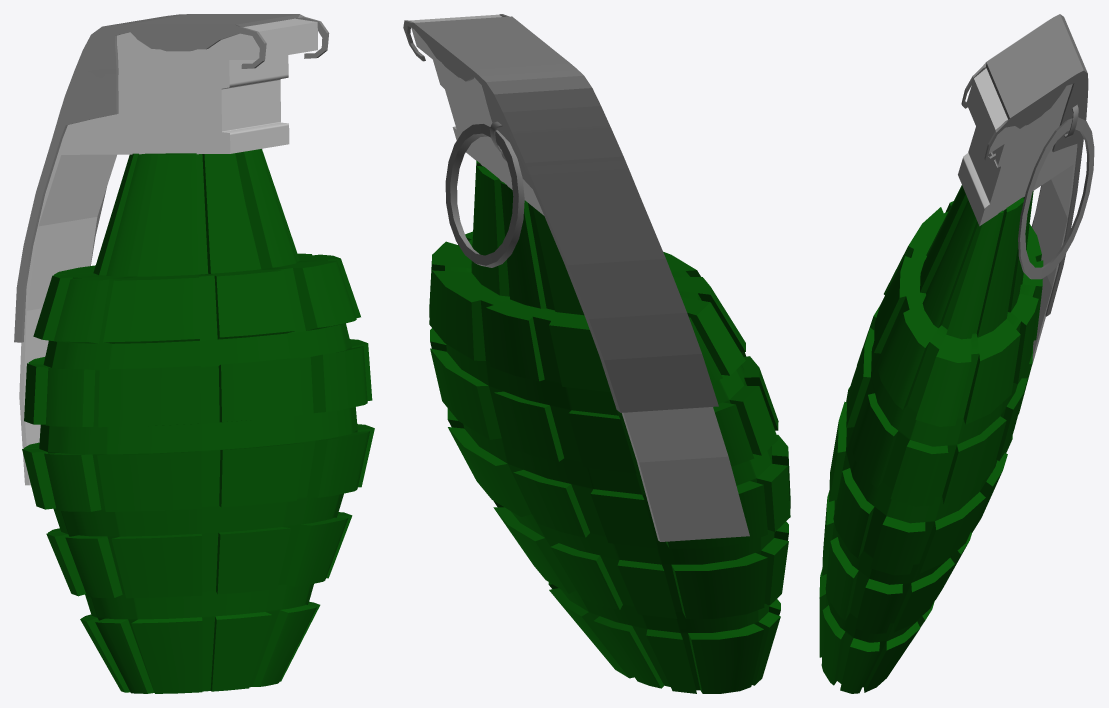
The model's file is enemyBomb.glb.
3 renders of one model, left to right at view 1: azimuth 30°, elevation 25°; view 2: azimuth 150°, elevation 25°; view 3: azimuth 270°, elevation 25°, orthographic. The views are drawn at different scales.
Visible parts, largest first — view 1: Grenade; view 2: Grenade; view 3: Grenade.
Part boxes in pixels (x1=…): Grenade: x1=14, y1=14, x2=374, y2=693; Grenade: x1=403, y1=14, x2=790, y2=693; Grenade: x1=819, y1=14, x2=1094, y2=693.
Bounding box in the file's own units: 3.26 × 5.86 × 2.26.
